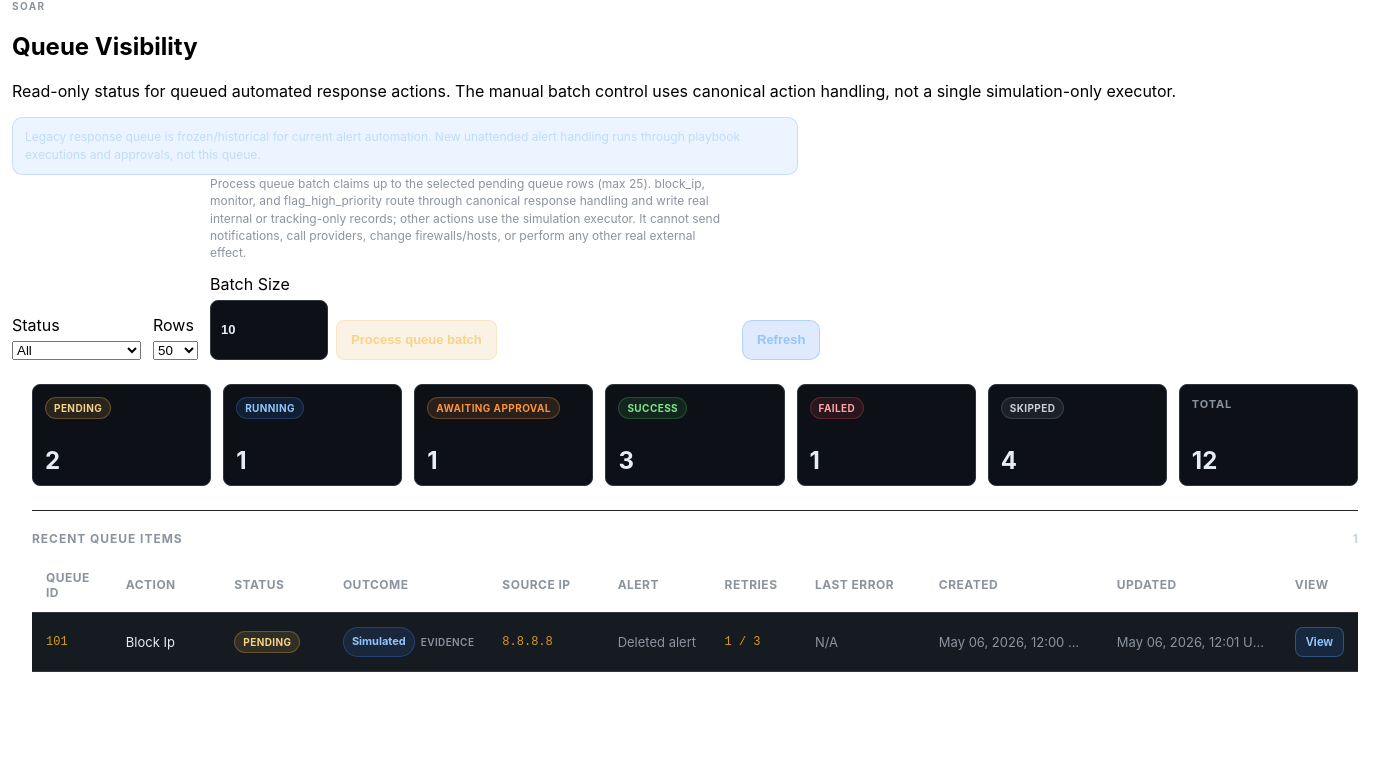
Test case: SoarQueuePanel › renders queue detail correlation id and response outcome summary
Expected: the text "Recent Queue Items" is shown, [32,531,183,546]
Click the button "View".
click(1319, 642)  # box [1295,627,1344,657]
(page scrolled)
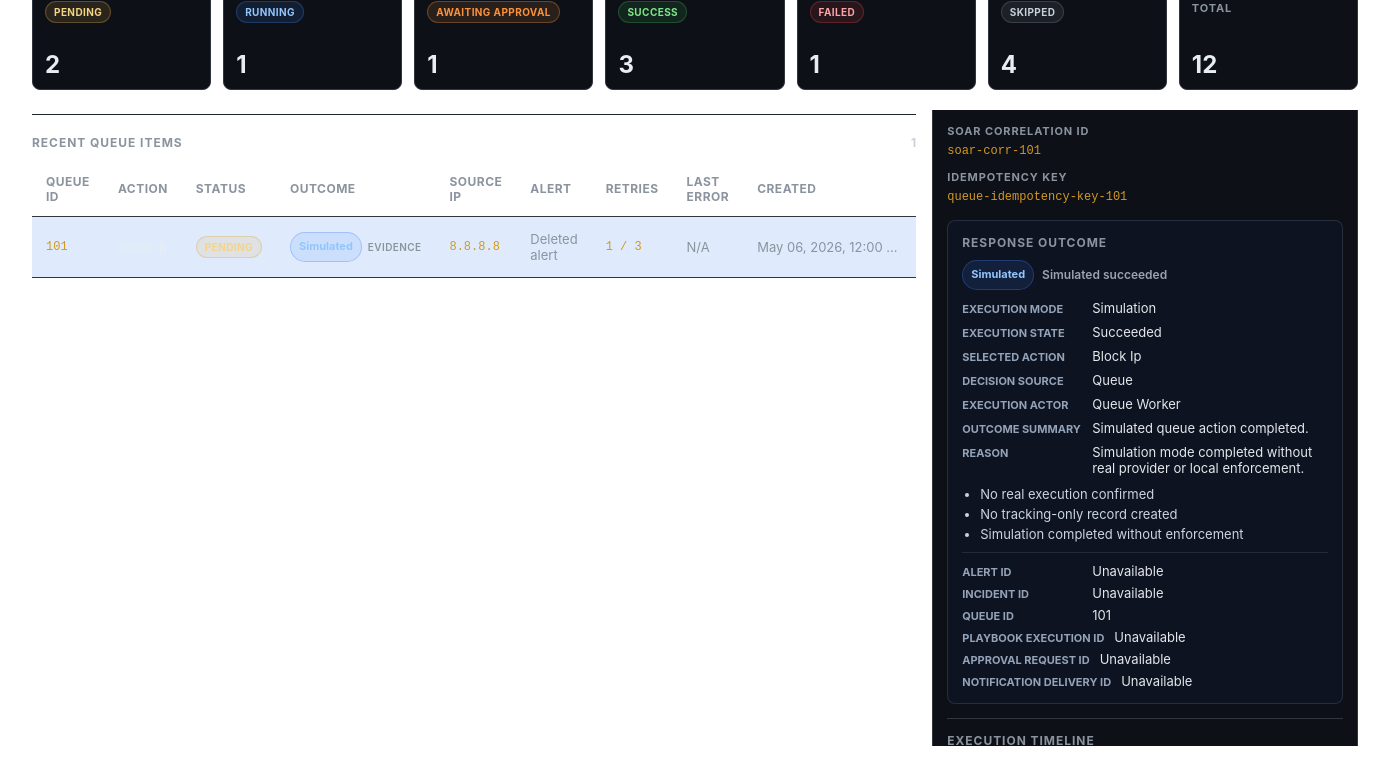
Expected: the text "SOAR Correlation ID" is shown, [947,124,1089,138]
Expected: the text "soar-corr-101" is shown, [947,144,1041,158]
Expected: the text "Response Outcome" is shown, [962,235,1107,250]
